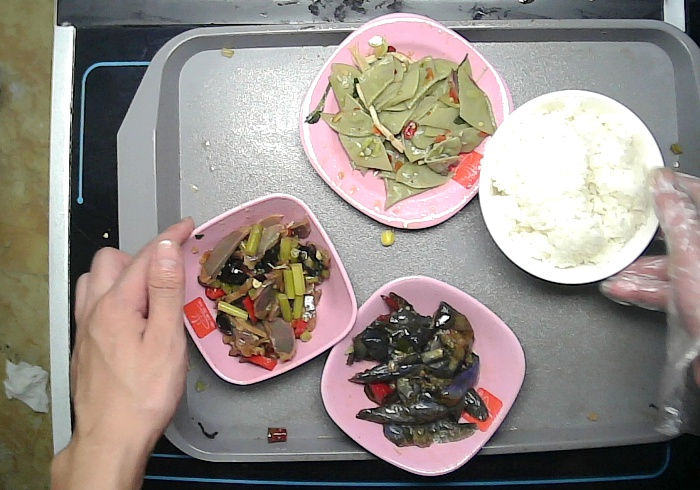SHKJ-Fan_Wan: (473, 80, 666, 293)
SHKJ-Fen_Se_Cai_Die: (316, 269, 528, 480)
SHKJ-Fen_Se_Si_Fang_Cai_Die: (296, 7, 515, 232)
SHKJ-Fen_Se_Xiao_Fang_Die: (162, 191, 356, 387)
